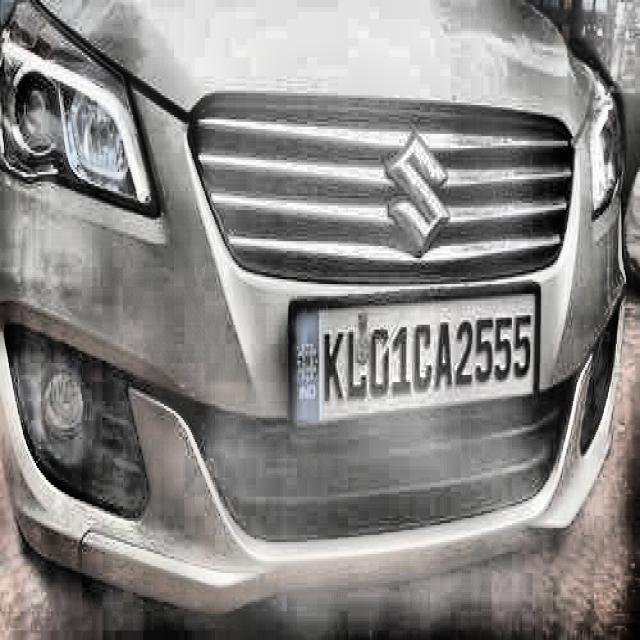license_plate: (286, 293, 544, 436)
